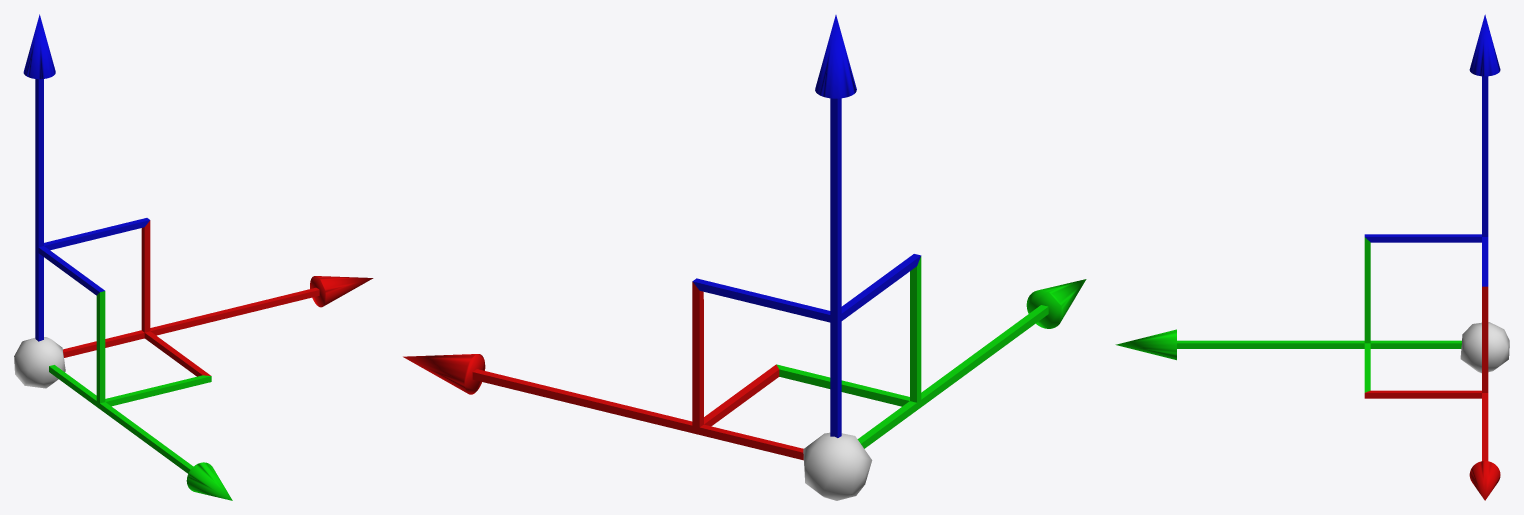
Rendered from SM_Gizmo_Location.FBX.
3 views of the same model, side by side, from view 1: azimuth 30°, elevation 25°; view 2: azimuth 150°, elevation 25°; view 3: azimuth 270°, elevation 25° (orthographic). The views are drawn at different scales.
Visible parts, largest first — view 1: SM_Gizmo_Location; view 2: SM_Gizmo_Location; view 3: SM_Gizmo_Location.
Boxes of the visible parts, x1=… form: SM_Gizmo_Location: x1=14, y1=14, x2=373, y2=500; SM_Gizmo_Location: x1=403, y1=15, x2=1086, y2=500; SM_Gizmo_Location: x1=1115, y1=14, x2=1509, y2=500.
Bounding box in the file's own units: 79.73 × 79.82 × 79.59.
